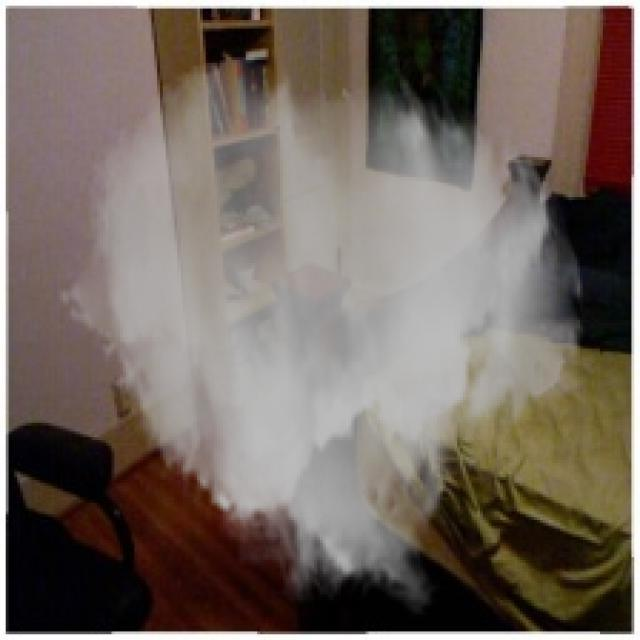Smoke: (57, 52, 589, 618)
